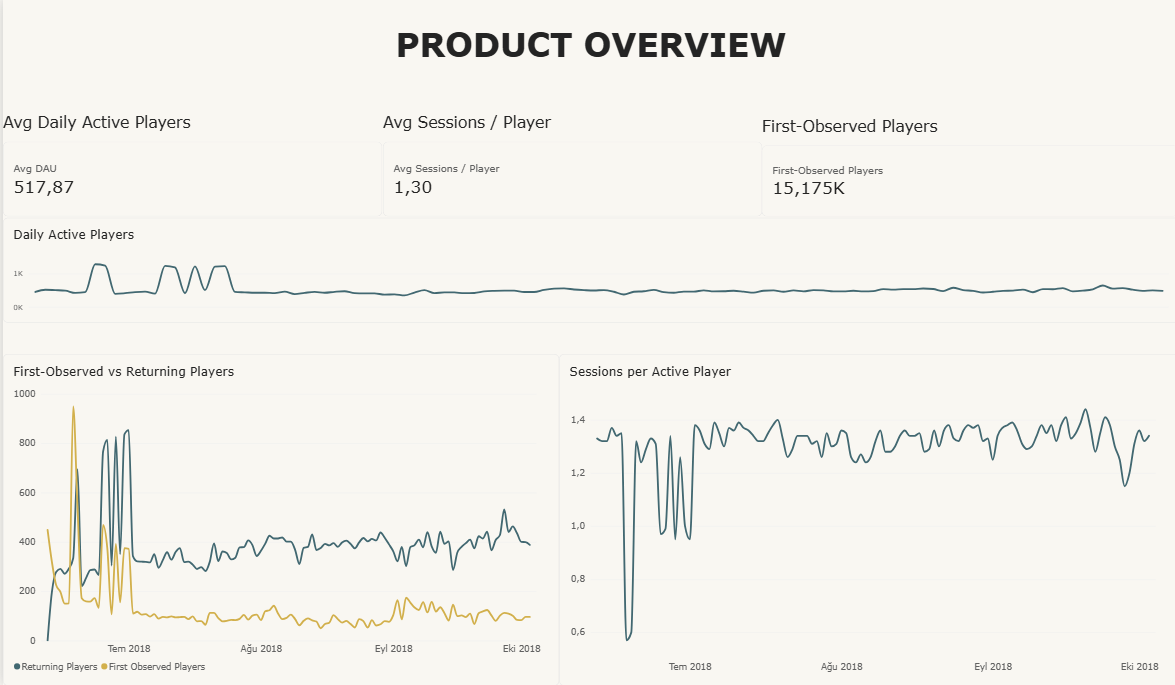

This screenshot's page, from the dashboard's own definition file:
{"tool":"powerbi","page":{"name":"Product Overview","canvas":[1920,1080],"ordinal":0},"visuals":[{"type":"lineChart","title":"First-Observed vs Returning Players","fields":{"Category":["bi_daily_kpis_v.activity_date"],"Y":["Avg(bi_daily_kpis_v.returning_players)","Avg(bi_daily_kpis_v.first_observed_players)"]},"box":[0,538.9,908.3,541.7],"z":0},{"type":"cardVisual","title":"Avg Daily Active Players","fields":{"Data":["Avg(bi_daily_kpis_v.dau)"]},"box":[0,144.4,619.4,169.4],"z":1000},{"type":"cardVisual","title":"Avg Sessions / Player","fields":{"Data":["Avg(bi_daily_kpis_v.sessions_per_player)"]},"box":[619.4,144.4,619.4,169.4],"z":2000},{"type":"lineChart","title":"Sessions per Active Player","fields":{"Category":["bi_daily_kpis_v.activity_date"],"Y":["Avg(bi_daily_kpis_v.sessions_per_player)"]},"box":[908.4,538.7,1011.1,541.7],"z":3000},{"type":"lineChart","title":"Daily Active Players","fields":{"Category":["bi_daily_kpis_v.activity_date"],"Y":["Avg(bi_daily_kpis_v.dau)"]},"box":[0,315.6,1920.5,171.3],"z":4000},{"type":"cardVisual","title":"First-Observed Players","fields":{"Data":["Sum(bi_daily_kpis_v.first_observed_players)"]},"box":[1238.9,150,680.6,163.9],"z":5000},{"type":"textbox","box":[0,0,1919.4,113.9],"z":6000}]}

Visuals, with their boxes on the page's 1920x1080 design canvas (x1, y1, x2, y2). These are canvas units, not pixel positions in the 1175x685 screenshot, which may show the page scaled, cropped or inside an application window:
"First-Observed vs Returning Players" lineChart: rect(0, 539, 908, 1081)
"Avg Daily Active Players" cardVisual: rect(0, 144, 619, 314)
"Avg Sessions / Player" cardVisual: rect(619, 144, 1239, 314)
"Sessions per Active Player" lineChart: rect(908, 539, 1920, 1080)
"Daily Active Players" lineChart: rect(0, 316, 1920, 487)
"First-Observed Players" cardVisual: rect(1239, 150, 1920, 314)
textbox: rect(0, 0, 1919, 114)
